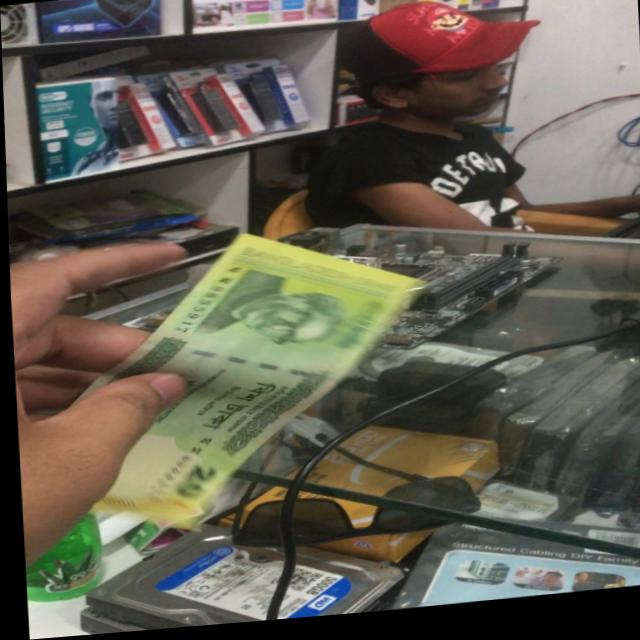Taka: (40, 228, 405, 522)
